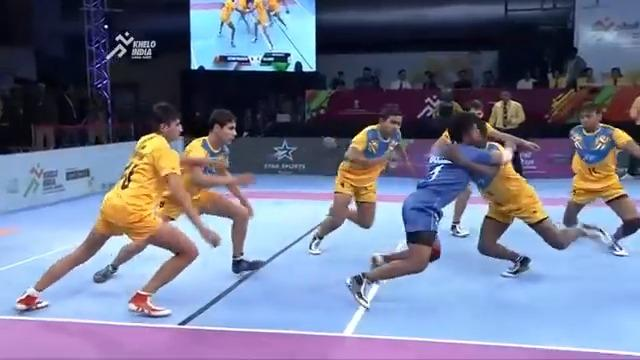Player: (15, 101, 221, 317), (344, 111, 540, 310), (92, 107, 265, 285), (433, 113, 609, 277), (307, 103, 409, 255), (561, 100, 639, 256)
Raider: (399, 115, 488, 333)
referee: (560, 45, 588, 89)
